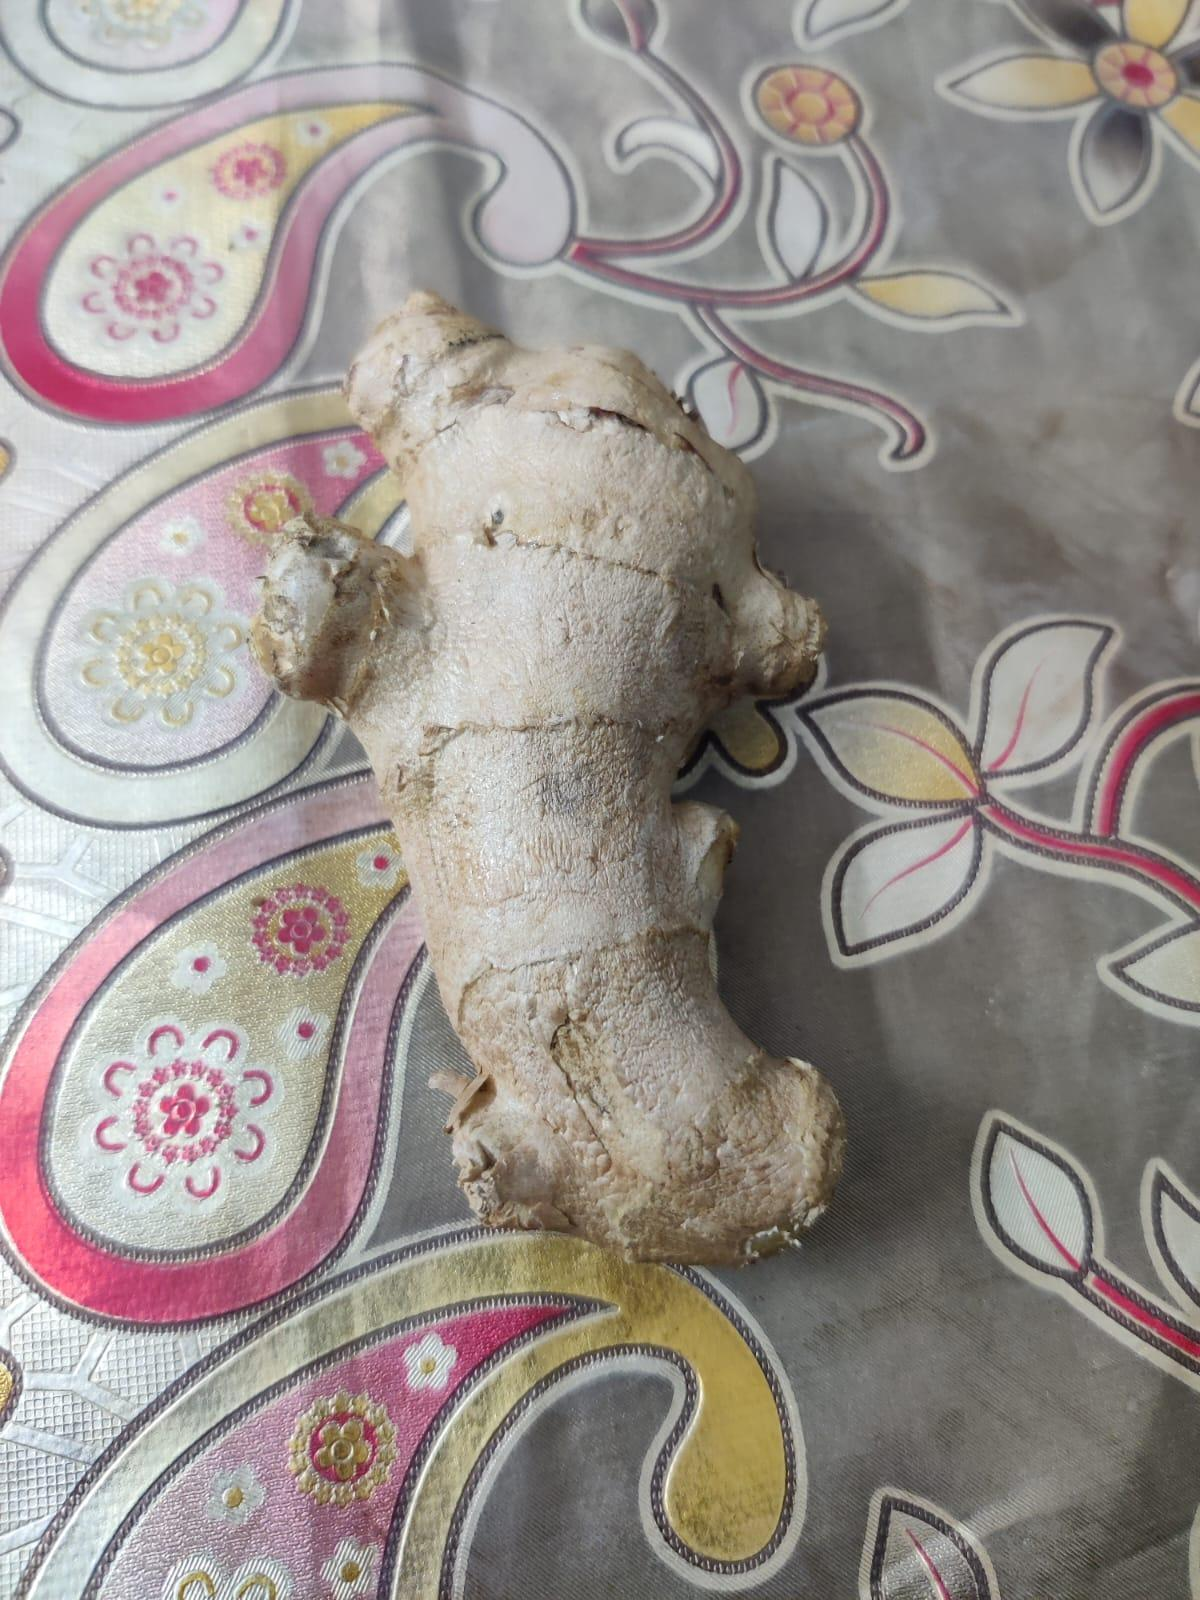non-mango: (265, 301, 884, 1267)
